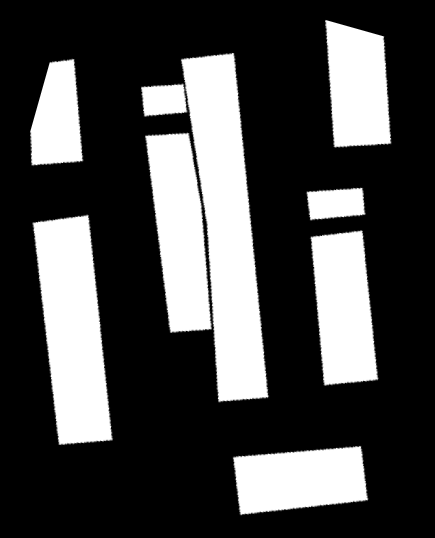parkingspot: (141, 53, 268, 402), (33, 215, 113, 445), (145, 133, 212, 333), (311, 231, 378, 386), (233, 446, 368, 515), (325, 20, 391, 147), (30, 59, 83, 165), (307, 188, 365, 220)
